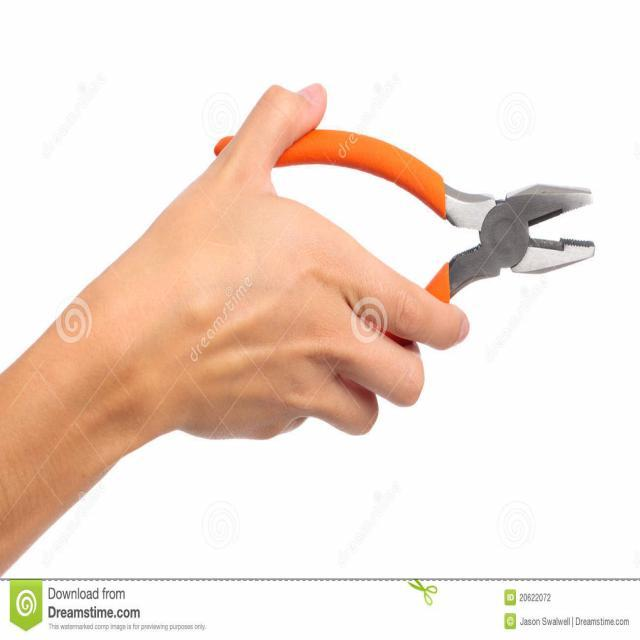pliers: (212, 124, 600, 313)
